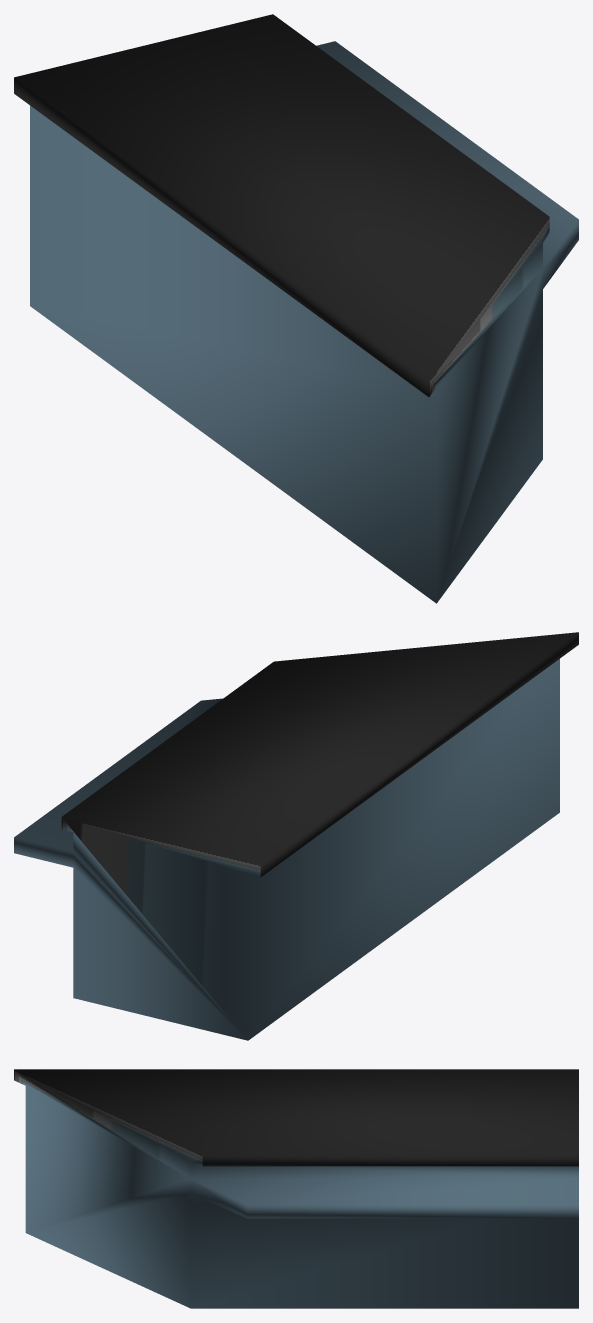
File: VerticleShelf.fbx
3 renders of one model, top to bottom at view 1: azimuth 30°, elevation 25°; view 2: azimuth 150°, elevation 25°; view 3: azimuth 270°, elevation 25°, orthographic. The views are drawn at different scales.
Parts seen in each view (by area): view 1: polySurface311; view 2: polySurface311; view 3: polySurface311.
Part boxes in pixels (x1=…): polySurface311: x1=14, y1=14, x2=578, y2=603; polySurface311: x1=14, y1=632, x2=578, y2=1040; polySurface311: x1=14, y1=1069, x2=578, y2=1308.
Size of the model in its own units: 3.13 by 2.16 by 7.
